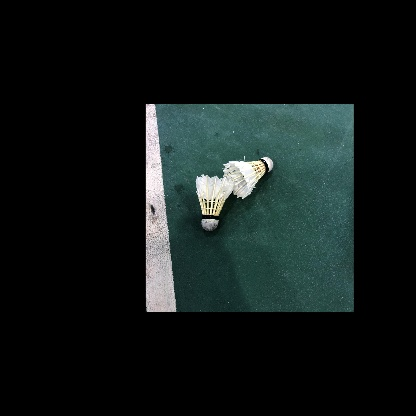ball_single: (196, 174, 233, 231), (223, 157, 273, 199)
